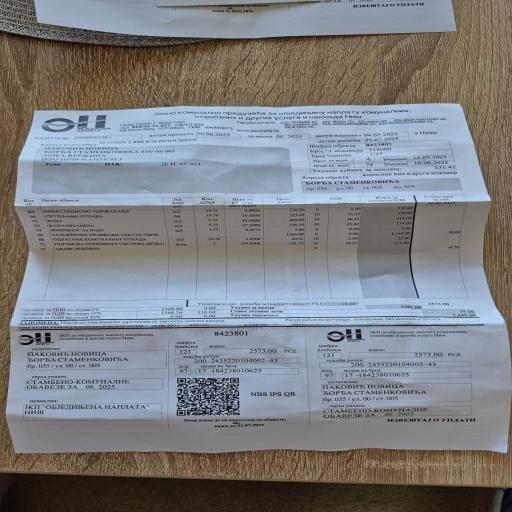stambene_usluge_nis: (308, 140, 459, 175)
stambene_usluge_nis_iznos: (215, 305, 479, 318)
